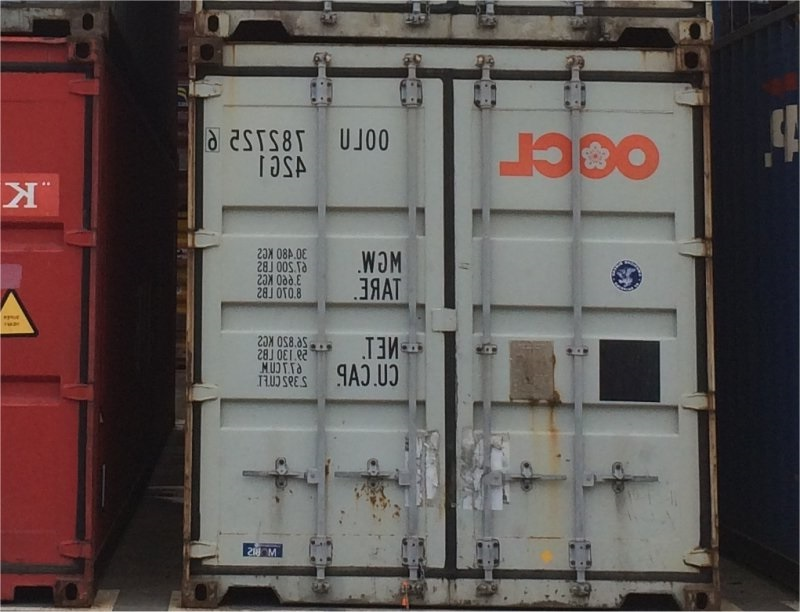container_door: (192, 35, 723, 609)
